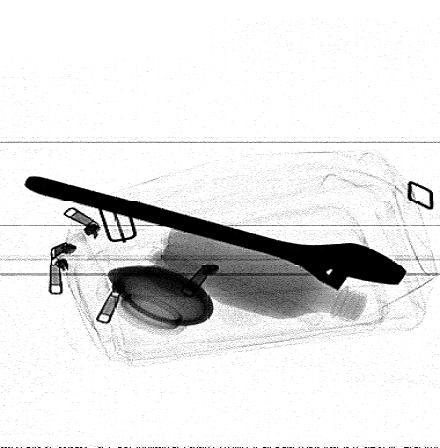Wrench: (23, 175, 409, 293)
